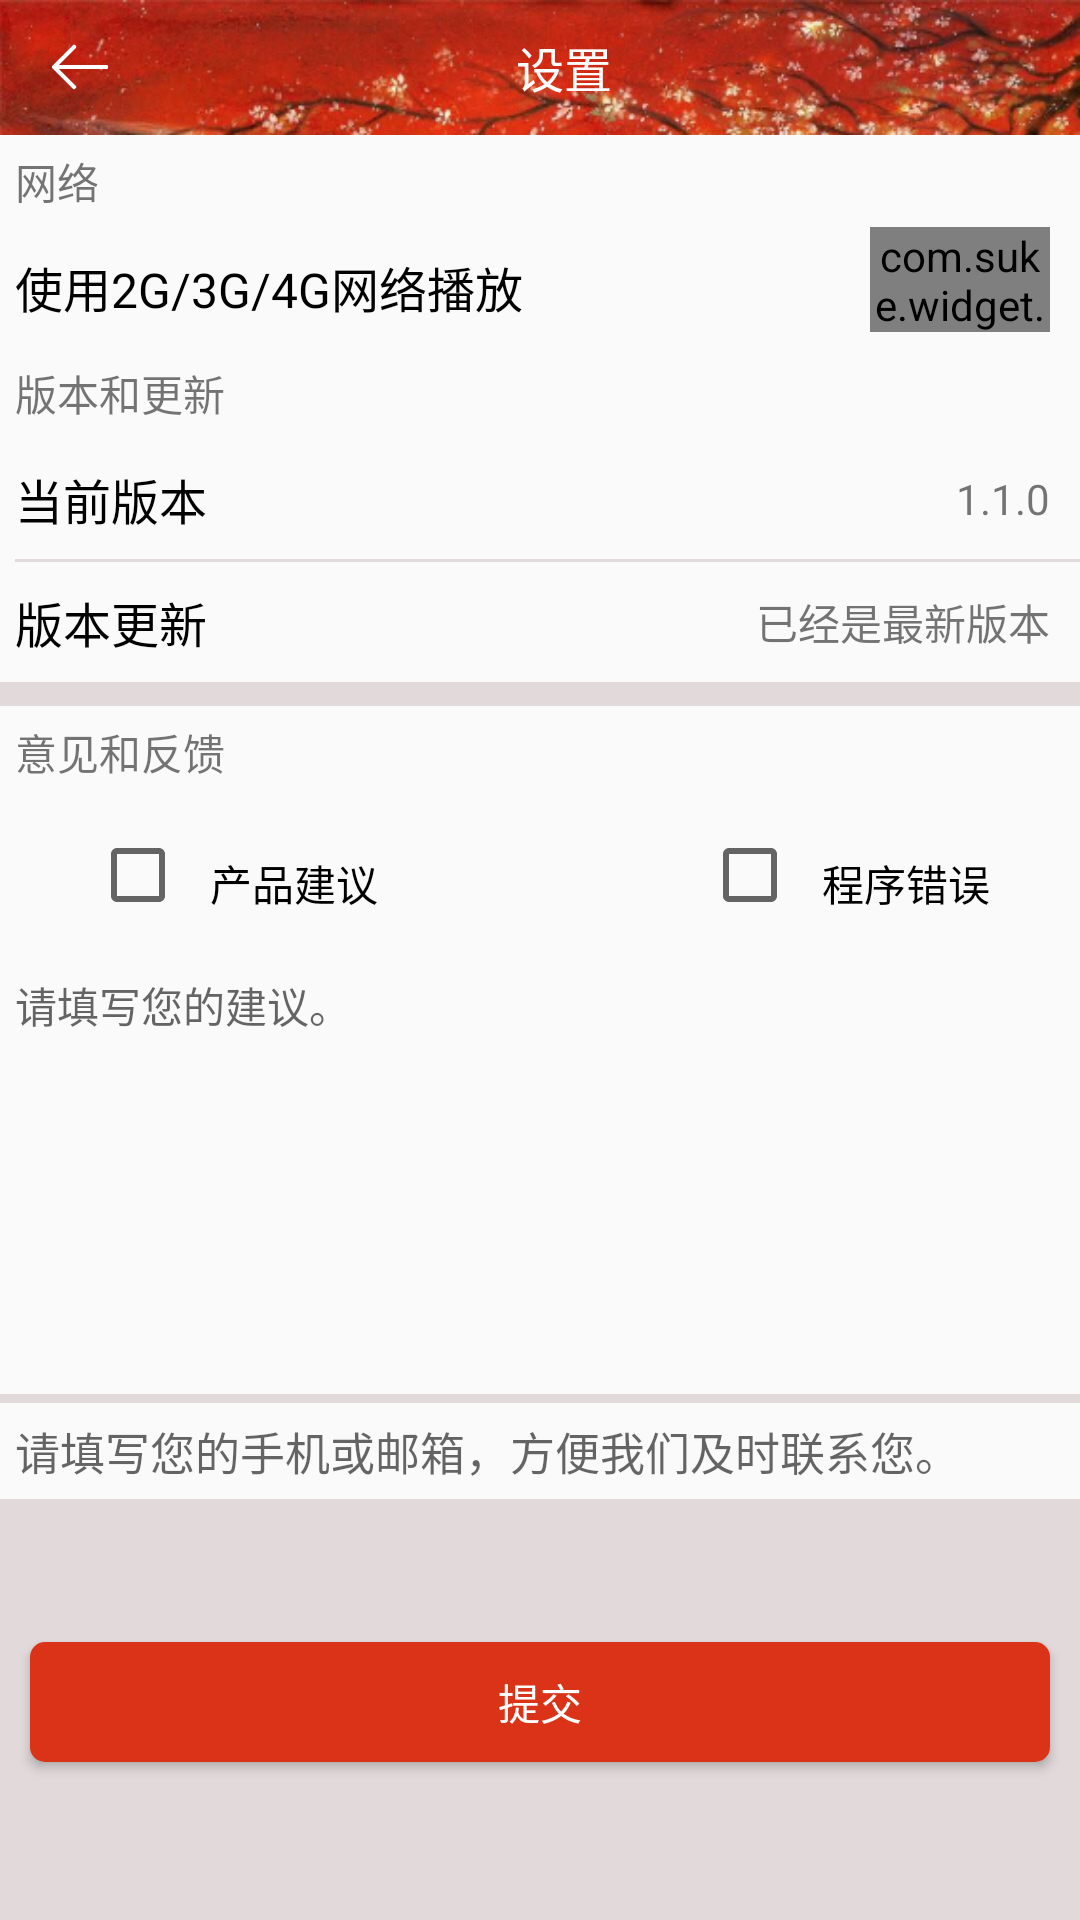

Locate icon controls on the screen. Image size 1080 × 1920, boxes as (x1, y1, x2, y2).
back: (48, 35, 112, 99)
